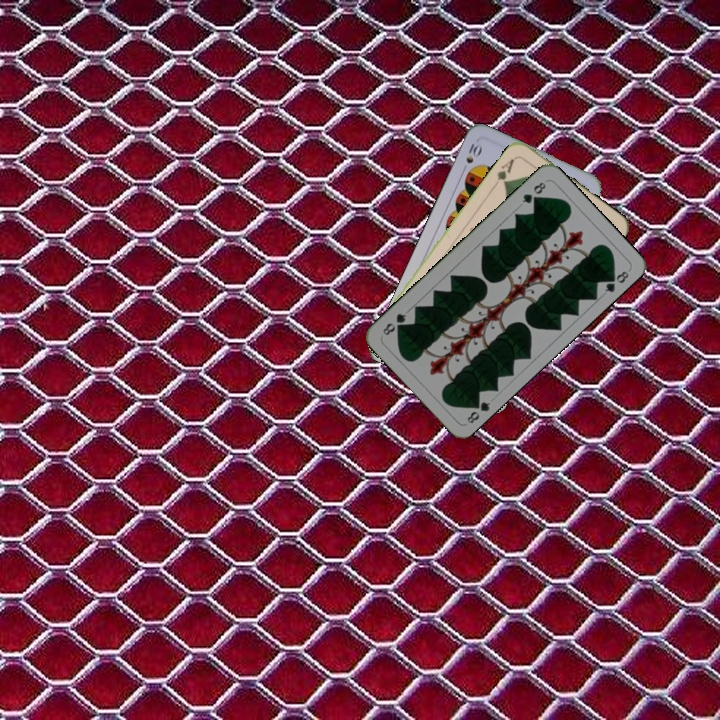G8: (463, 395, 493, 426), (518, 177, 549, 206)
GA: (490, 154, 519, 189)
S10: (458, 139, 485, 175)
